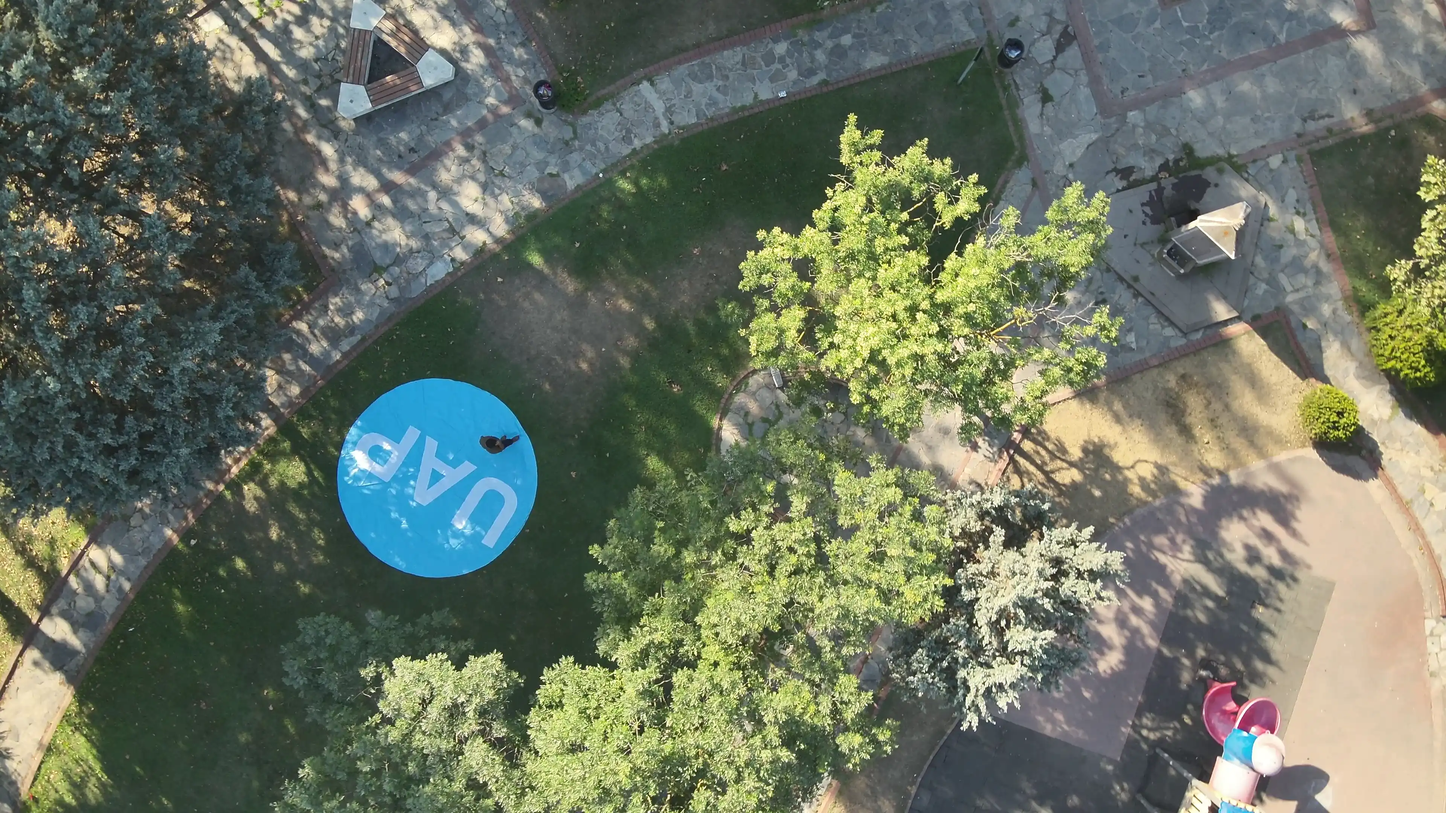UAP: (334, 375, 538, 576)
person: (476, 420, 525, 455)
